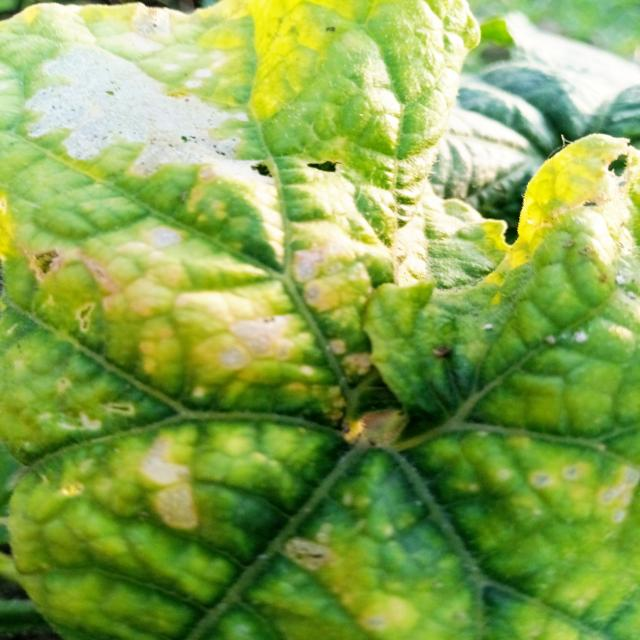Anthracnose: (244, 146, 346, 185), (32, 239, 62, 279), (602, 147, 636, 180)
